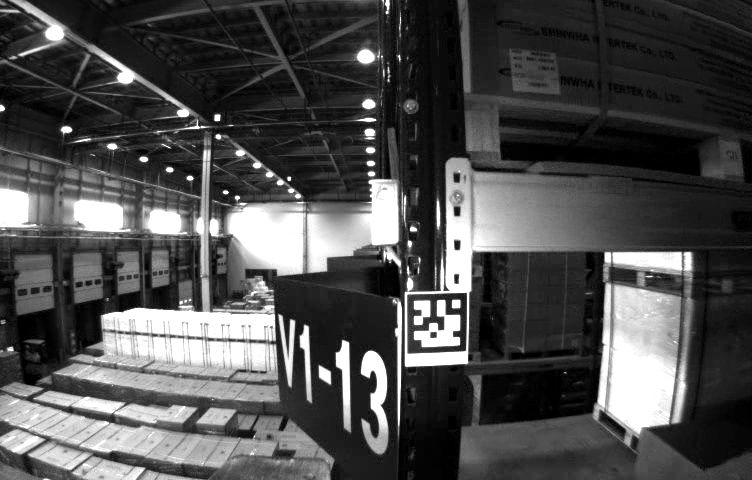True Barcode: (508, 45, 562, 95)
